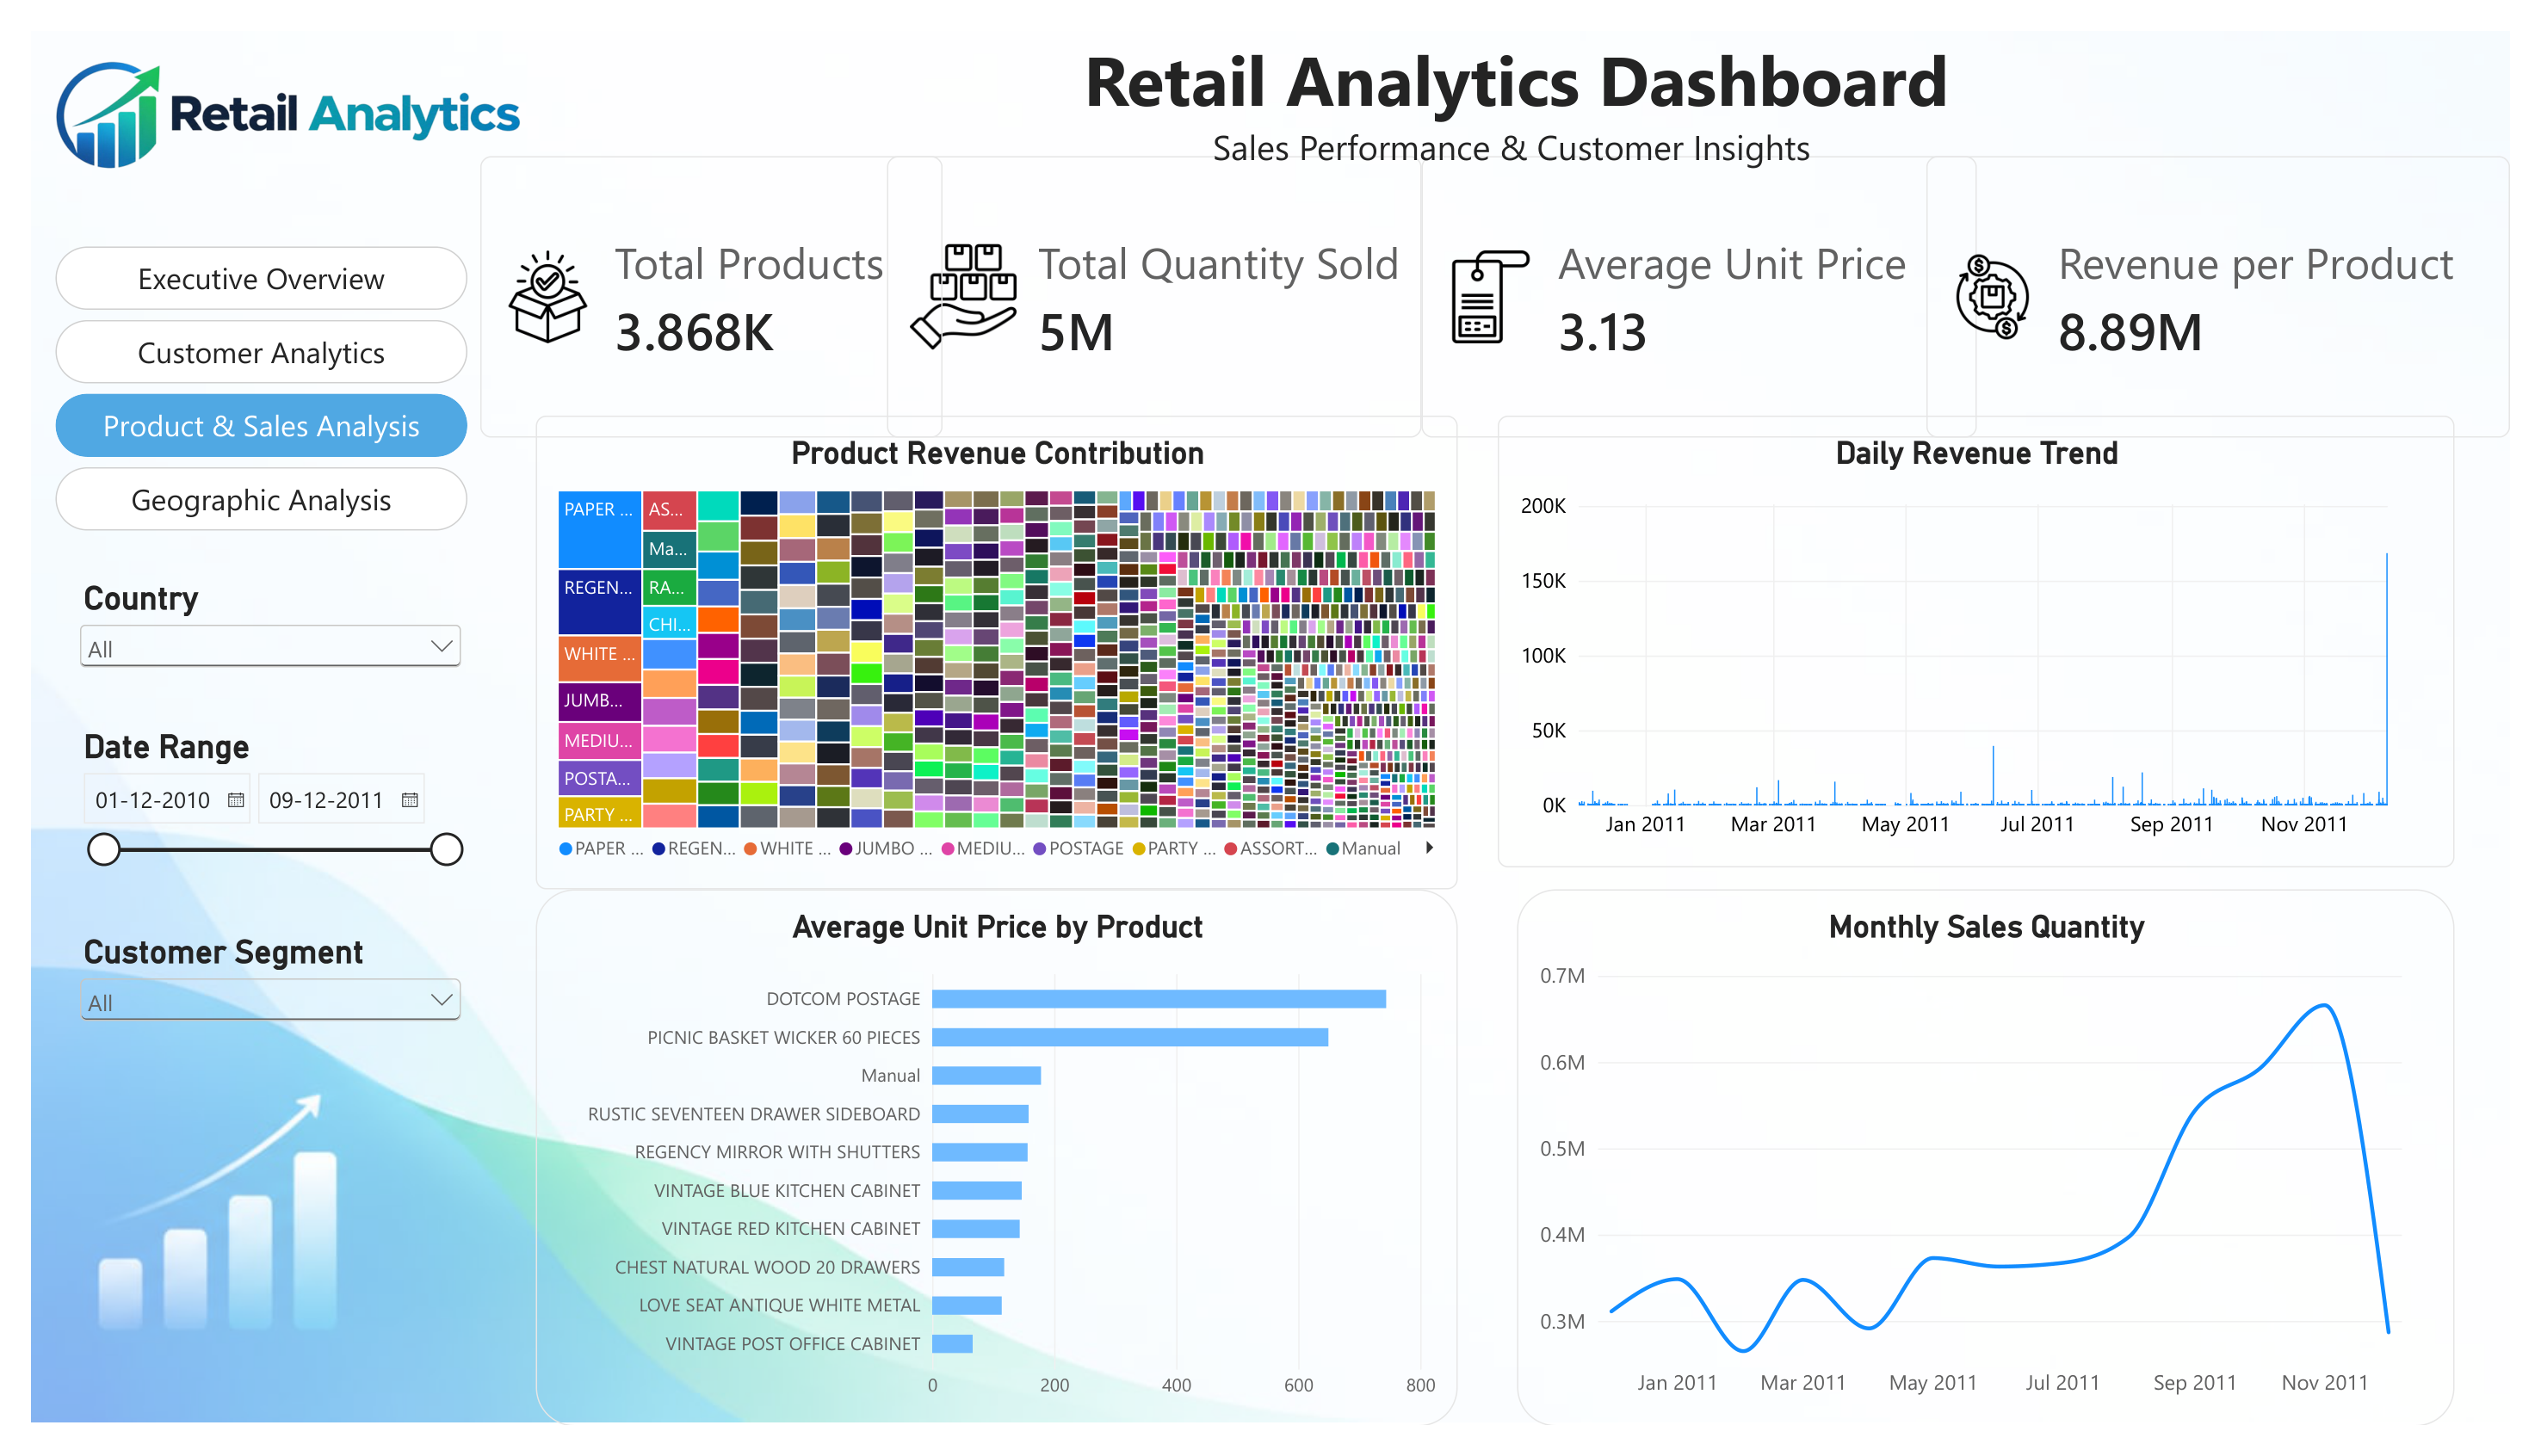

Layout of this report page (visuals, bound fields, positions):
{"tool":"powerbi","page":{"name":"Product & Sales Analysis","canvas":[1920,1080],"ordinal":2},"visuals":[{"type":"cardVisual","fields":{"Data":["Sum(RetailTransactions.Quantity)"]},"box":[662.8,96.7,413.7,218.2],"z":0},{"type":"cardVisual","fields":{"Data":["Avg(RetailTransactions.UnitPrice)"]},"box":[1076.5,96.7,430.2,218.2],"z":1000},{"type":"cardVisual","fields":{"Data":["Count(RetailTransactions.Description)"]},"box":[347.9,96.7,358.1,218.2],"z":2000},{"type":"cardVisual","fields":{"Data":["RetailTransactions.Total Revenue"]},"box":[1467.6,96.7,452.8,218.2],"z":3000},{"type":"clusteredBarChart","title":"Average Unit Price by Product","fields":{"Y":["Avg(RetailTransactions.UnitPrice)"],"Category":["RetailTransactions.Description"]},"box":[391.1,664.8,714.2,415.8],"z":4000},{"type":"lineChart","title":"Monthly Sales Quantity","fields":{"Y":["Sum(RetailTransactions.Quantity)"],"Category":["RetailTransactions.InvoiceDate.Variation.Date Hierarchy.Year","RetailTransactions.InvoiceDate.Variation.Date Hierarchy.Month"]},"box":[1150.6,664.8,726.6,415.8],"z":5000},{"type":"image","box":[0,0,391.1,146.1],"z":6000},{"type":"textbox","box":[424,0,1453.2,115.3],"z":7000},{"type":"slicer","fields":{"Values":["RetailTransactions.Country"]},"box":[32.9,424,304.6,115.3],"z":8000},{"type":"slicer","fields":{"Values":["RetailTransactions.InvoiceDate"]},"box":[32.9,539.3,304.6,251.1],"z":9000},{"type":"slicer","fields":{"Values":["RetailTransactions.Description"]},"box":[32.9,697.8,304.6,131.7],"z":10000},{"type":"treemap","title":"Product Revenue Contribution","fields":{"Group":["RetailTransactions.Description"],"Values":["Sum(RetailTransactions.Revenue)"]},"box":[391.1,298.5,714.2,366.4],"z":11000},{"type":"clusteredColumnChart","title":"Daily Revenue Trend","fields":{"Y":["Sum(RetailTransactions.Revenue)"],"Category":["RetailTransactions.InvoiceDate"]},"box":[1136.2,298.5,741,349.9],"z":12000},{"type":"pageNavigator","box":[18.5,166.7,319,220.2],"z":13000}]}

Visuals, with their boxes in screenshot pixels (x1, y1, x2, y2), scaled from the page's 1920x1080 canvas onto the 2541x1456 screenshot:
cardVisual - Sum(RetailTransactions.Quantity): 877, 130, 1425, 424
cardVisual - Avg(RetailTransactions.UnitPrice): 1425, 130, 1994, 424
cardVisual - Count(RetailTransactions.Description): 461, 130, 934, 424
cardVisual - RetailTransactions.Total Revenue: 1942, 130, 2540, 424
"Average Unit Price by Product" clusteredBarChart: 517, 897, 1462, 1455
"Monthly Sales Quantity" lineChart: 1523, 897, 2484, 1455
image: 0, 0, 517, 197
textbox: 561, 0, 2484, 156
slicer - RetailTransactions.Country: 44, 571, 447, 727
slicer - RetailTransactions.InvoiceDate: 44, 727, 447, 1065
slicer - RetailTransactions.Description: 44, 941, 447, 1119
"Product Revenue Contribution" treemap: 517, 403, 1462, 897
"Daily Revenue Trend" clusteredColumnChart: 1504, 403, 2484, 874
pageNavigator: 24, 225, 447, 521
